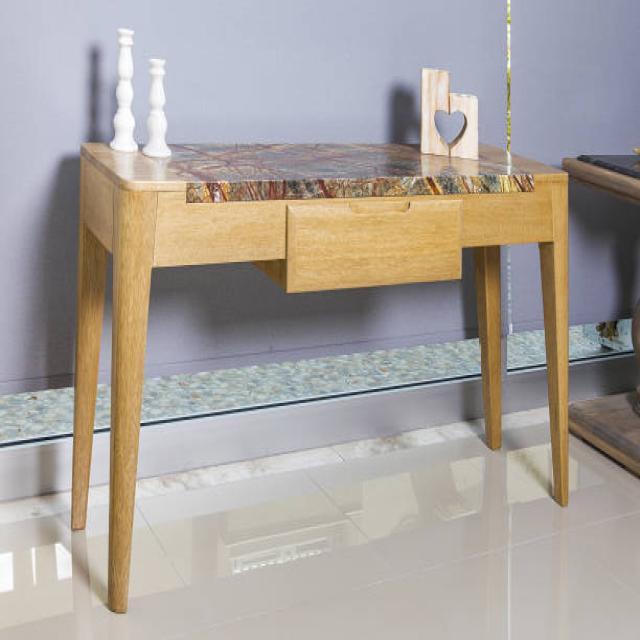table: (69, 136, 570, 612)
